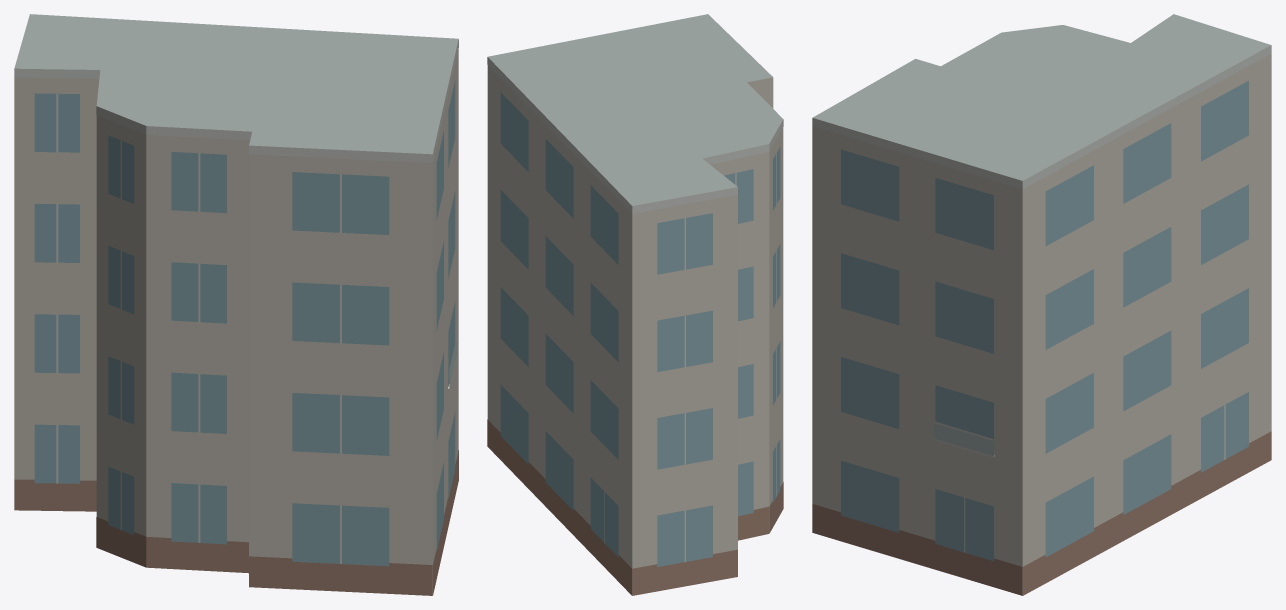
Rendered from survey-upis-32517305.glb.
3 renders of one model, left to right at view 1: azimuth 30°, elevation 25°; view 2: azimuth 150°, elevation 25°; view 3: azimuth 270°, elevation 25°, orthographic. The views are drawn at different scales.
Visible parts, largest first — view 1: survey-upis-32517305.tmp; view 2: survey-upis-32517305.tmp; view 3: survey-upis-32517305.tmp.
Part boxes in pixels (box(x1,y1,x2,y2)): survey-upis-32517305.tmp: box(14, 14, 458, 595); survey-upis-32517305.tmp: box(487, 14, 783, 595); survey-upis-32517305.tmp: box(812, 14, 1271, 595).
Bounding box in the file's own units: 10.54 × 12.2 × 12.25.
